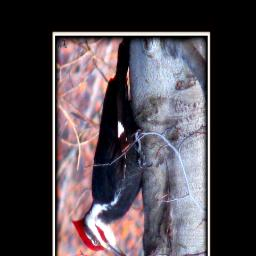Woodpecker: (71, 36, 153, 256)
